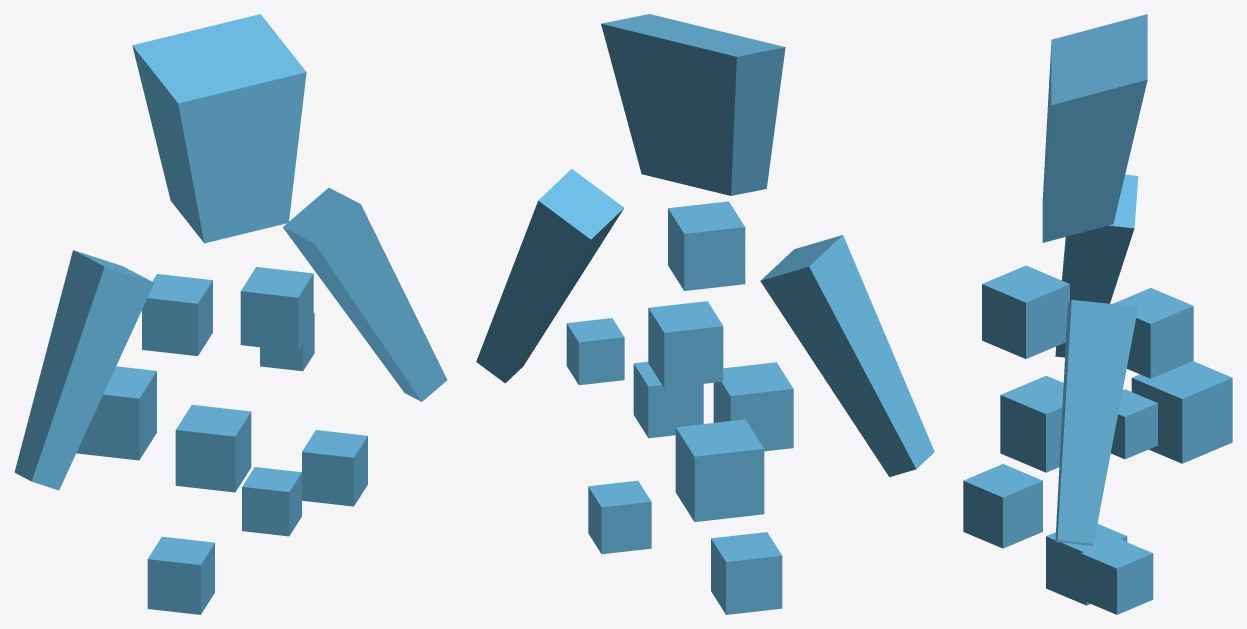
File: blaze_man.glb
3 renders of one model, left to right at view 1: azimuth 30°, elevation 25°; view 2: azimuth 150°, elevation 25°; view 3: azimuth 270°, elevation 25°, orthographic. The views are drawn at different scales.
Parts seen in each view (by area): view 1: Cube, Cube.001; view 2: Cube, Cube.001; view 3: Cube, Cube.001.
Part boxes in pixels (x1,y1,x2,y2): Cube: (76, 14, 367, 614); Cube.001: (14, 188, 447, 490); Cube: (566, 14, 793, 614); Cube.001: (476, 169, 934, 476); Cube: (963, 14, 1232, 614); Cube.001: (1055, 174, 1138, 545).
Bounding box in the file's own units: 0.7813 × 0.9674 × 0.4188.
